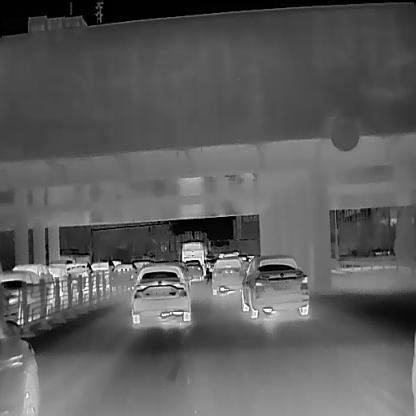car: (239, 254, 309, 318), (0, 312, 38, 415), (129, 264, 193, 323), (0, 269, 51, 320), (10, 263, 58, 298), (208, 256, 246, 295), (180, 239, 207, 275), (65, 262, 92, 291), (89, 260, 114, 289), (48, 264, 69, 293), (112, 261, 136, 284), (58, 248, 90, 264), (182, 258, 202, 283)
